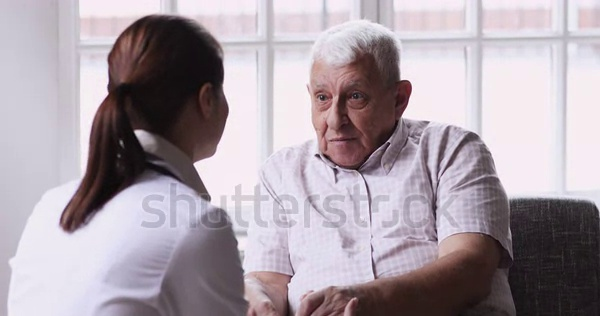No Mask: (304, 32, 417, 168)
